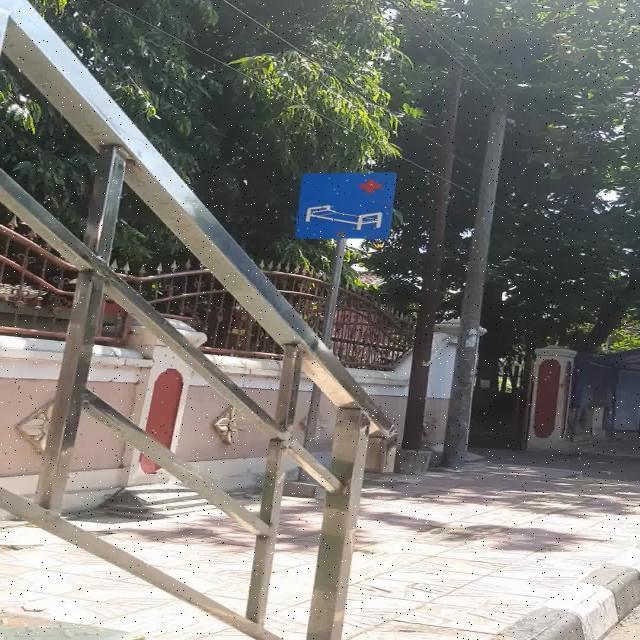Rumah Sakit: (296, 173, 397, 238)
